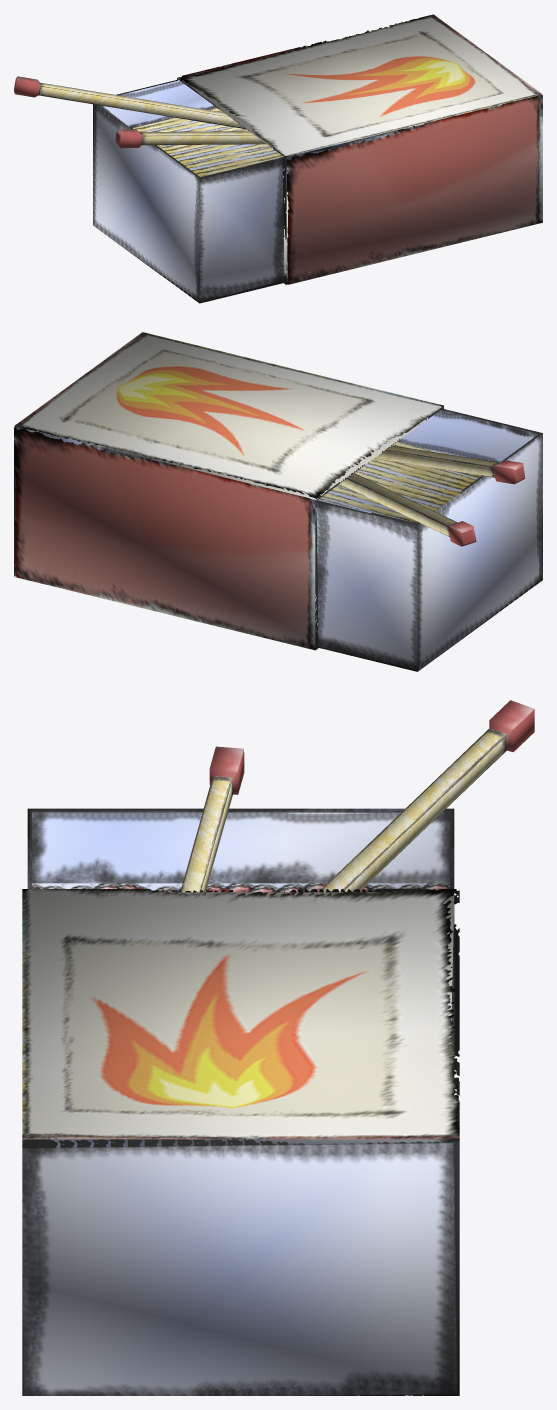
File: llumins.fbx
3 views of the same model, one above another, from view 1: azimuth 30°, elevation 25°; view 2: azimuth 150°, elevation 25°; view 3: azimuth 270°, elevation 25° (orthographic). The views are drawn at different scales.
Parts seen in each view (by area): view 1: Capsa, Llumi, Llumi_001; view 2: Capsa, Llumi, Llumi_001; view 3: Capsa, Llumi, Llumi_001.
Boxes of the visible parts, x1,y1,x2,y2 form: Capsa: (93, 14, 542, 303); Llumi: (14, 76, 245, 128); Llumi_001: (115, 129, 266, 148); Capsa: (14, 332, 542, 671); Llumi: (339, 473, 476, 546); Llumi_001: (374, 445, 525, 484); Capsa: (22, 808, 459, 1395); Llumi: (318, 700, 534, 892); Llumi_001: (180, 746, 244, 892).
Size of the model in its own units: 1.24 by 0.4404 by 0.678.
2 materials, 2 textured.
